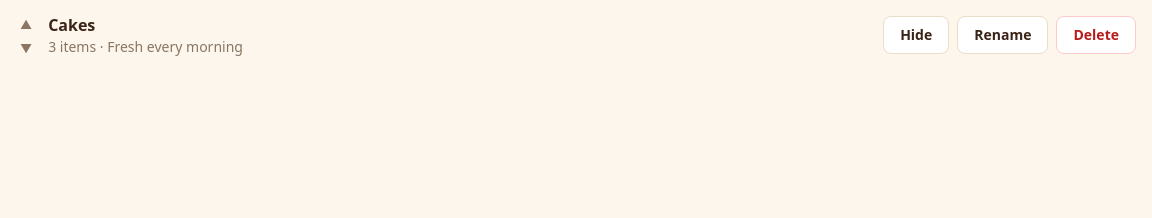
Test: renaming › swaps the row for a form filled in with what is there
Click the button "Rename".
click(1003, 35)  # box [957,16,1048,54]
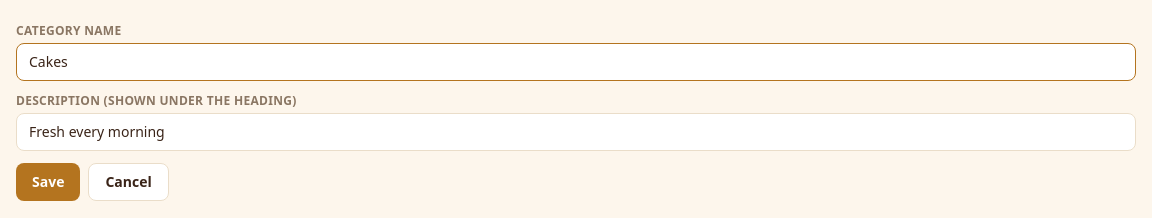
Expected: the field labelled "Category name" holds "Cakes", [16,43,1136,81]
Expected: the field labelled "Description (shown under the heading)" holds "Fresh every morning", [16,113,1136,151]
Expected: the button "Delete" is gone
